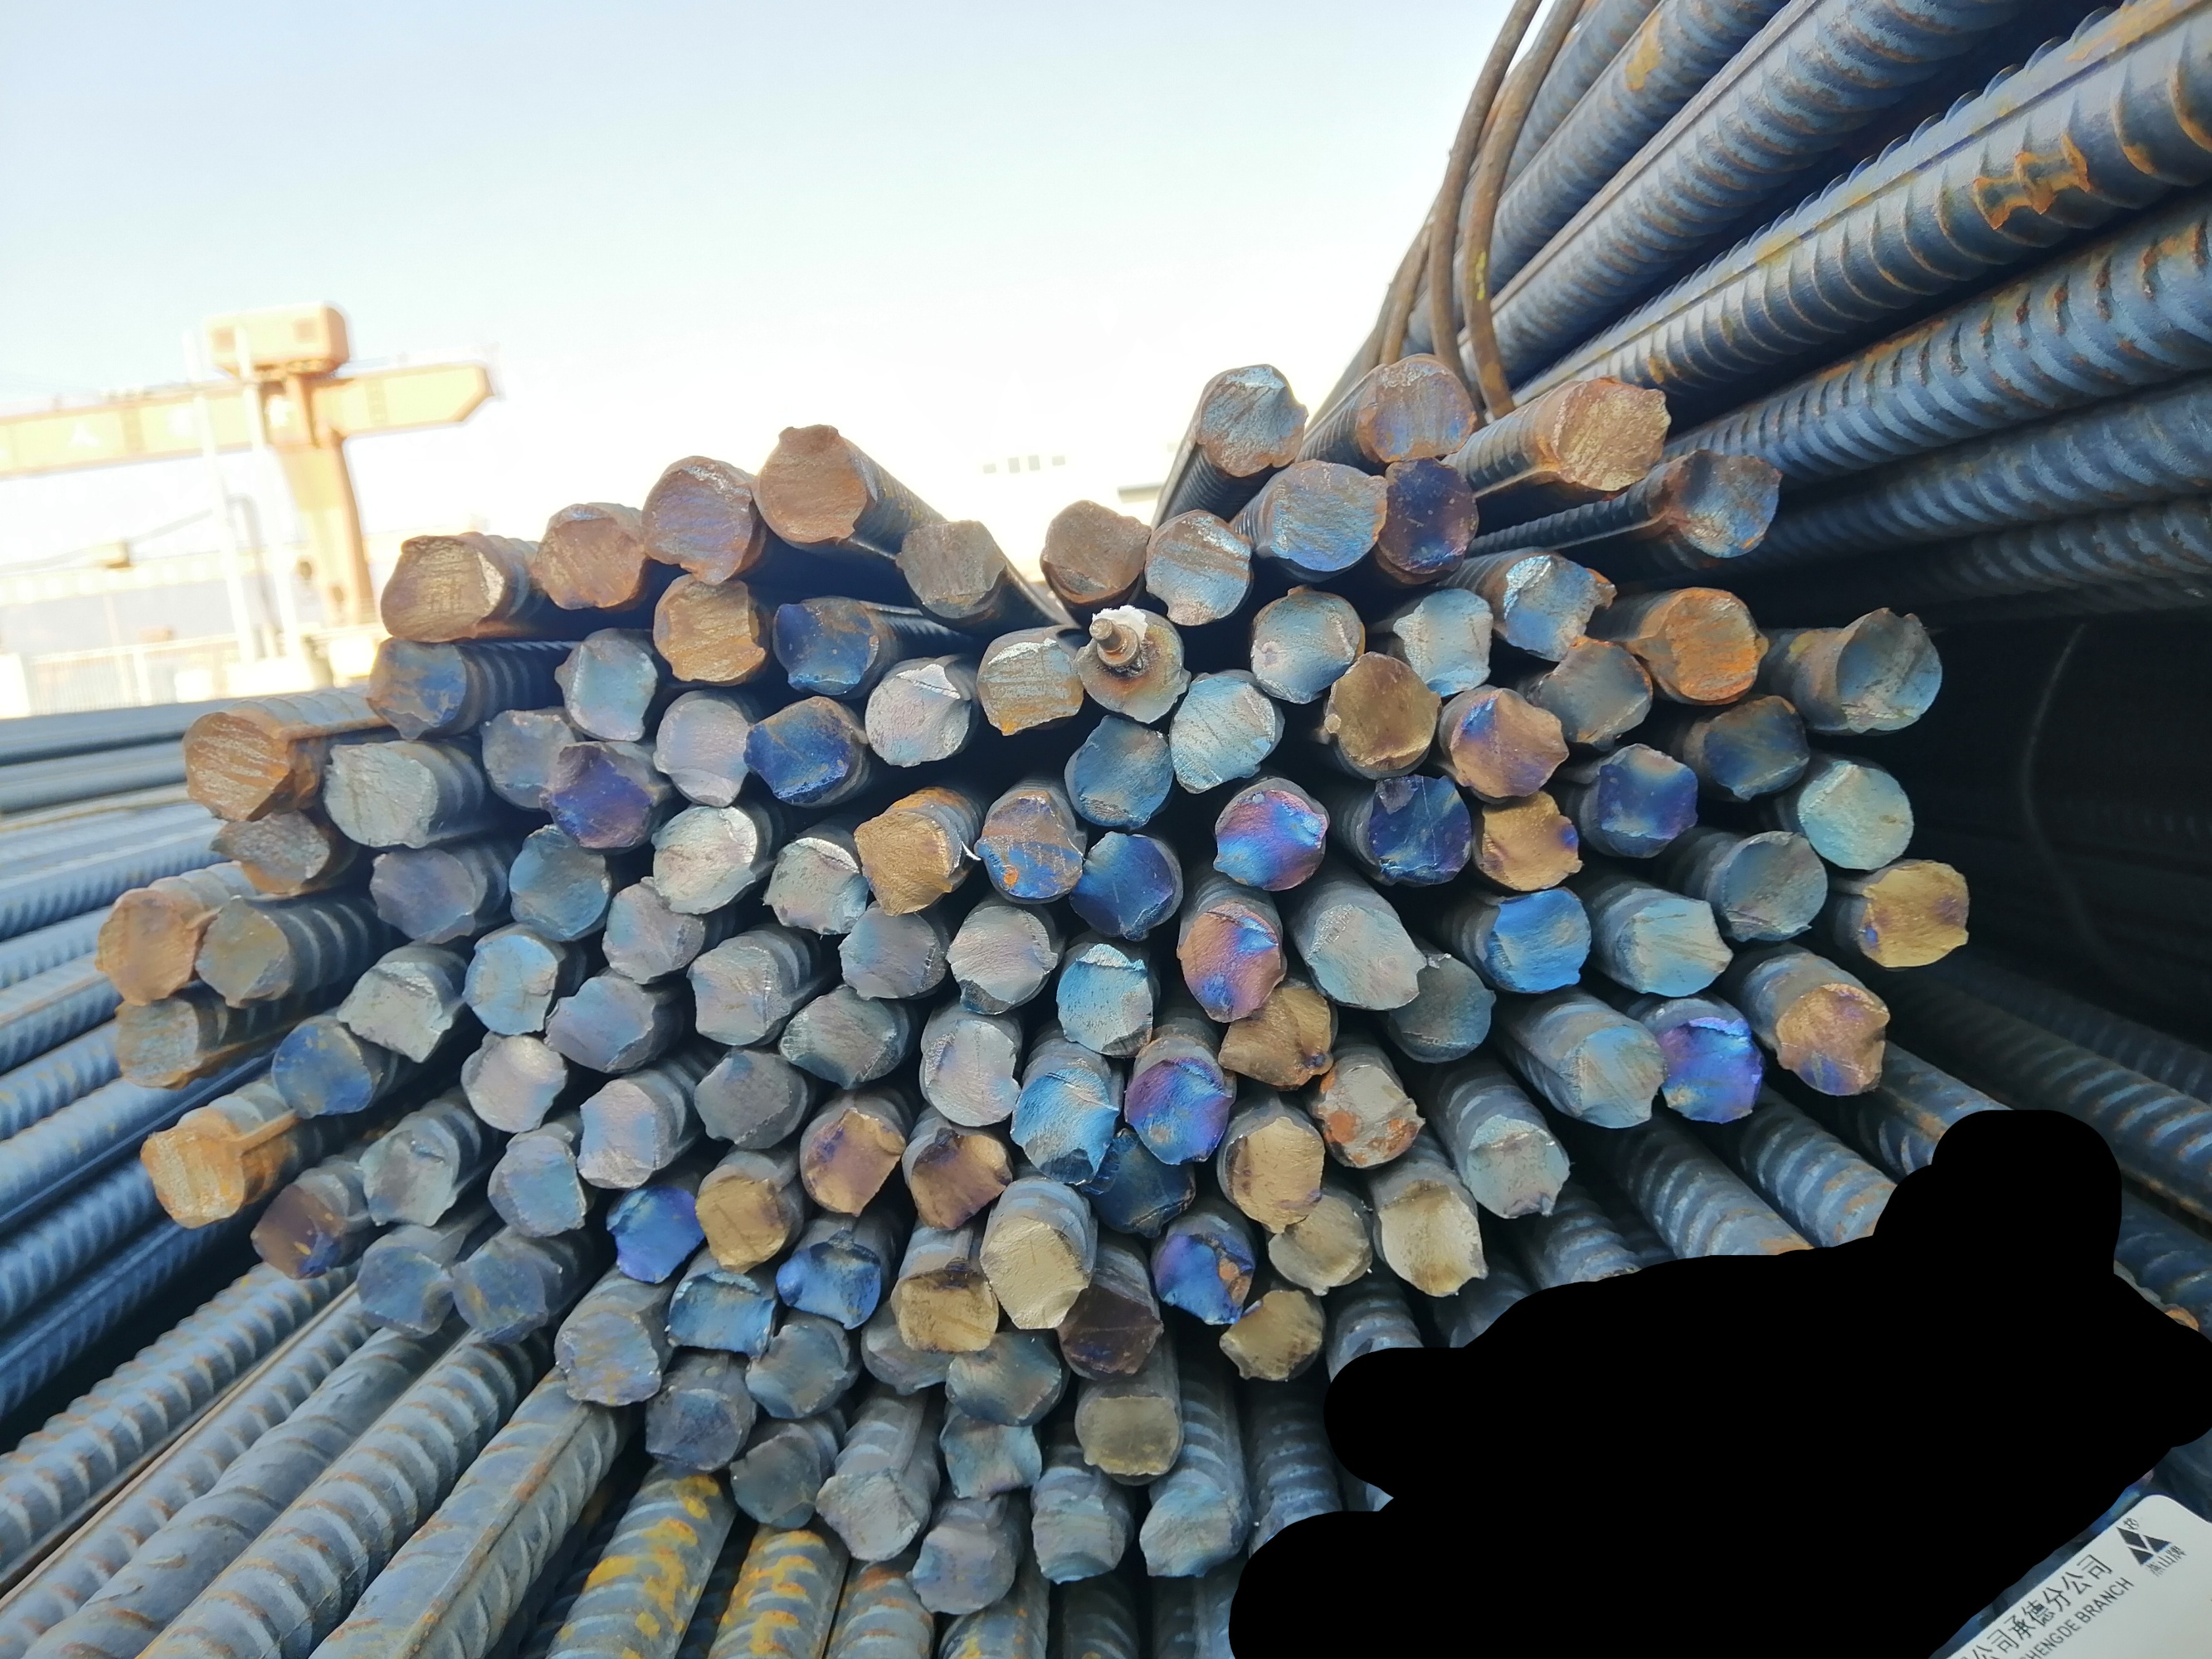rebar: (1626, 582, 1773, 708), (1257, 455, 1389, 586), (636, 453, 758, 589), (1163, 666, 1286, 796), (1323, 648, 1443, 781), (1372, 450, 1485, 589), (1529, 629, 1656, 753), (1447, 681, 1576, 803), (1123, 1030, 1239, 1164), (1830, 605, 1947, 739), (1072, 601, 1194, 728), (1769, 979, 1898, 1100), (1353, 769, 1476, 892), (1551, 371, 1673, 497), (1353, 347, 1482, 465), (1578, 741, 1701, 863), (378, 528, 507, 645), (1173, 897, 1290, 1026), (1213, 972, 1335, 1094), (1248, 584, 1368, 708), (753, 422, 870, 549), (1492, 551, 1623, 664), (776, 981, 908, 1093), (1191, 361, 1313, 481), (1210, 774, 1330, 894), (1372, 1182, 1492, 1302), (1006, 1063, 1123, 1187), (1386, 948, 1503, 1070), (743, 694, 866, 809), (1140, 507, 1255, 631), (1302, 901, 1429, 1012), (941, 901, 1060, 1019), (652, 570, 769, 690), (1060, 713, 1177, 833), (535, 737, 657, 852), (1795, 758, 1917, 873), (317, 741, 441, 854), (1473, 885, 1597, 999), (1713, 828, 1832, 945), (1665, 446, 1785, 561), (1851, 857, 1975, 969), (1069, 1370, 1185, 1486), (178, 709, 296, 824), (1067, 828, 1185, 943), (1307, 1061, 1429, 1173), (1220, 1112, 1330, 1236), (1086, 1126, 1199, 1244), (1656, 1012, 1769, 1131), (973, 791, 1093, 903), (530, 500, 647, 613), (795, 1105, 908, 1222), (87, 889, 199, 1007), (187, 894, 298, 1012), (551, 626, 662, 744), (333, 958, 455, 1066), (1614, 892, 1736, 1000), (941, 1326, 1069, 1429), (647, 803, 762, 917), (504, 824, 615, 941), (976, 1220, 1093, 1331), (1696, 692, 1813, 803), (1149, 1209, 1259, 1328), (1469, 788, 1588, 897), (1555, 1021, 1673, 1131), (689, 1044, 811, 1150), (899, 1124, 1016, 1234), (1037, 497, 1150, 608), (1389, 586, 1501, 699), (1461, 1108, 1572, 1222), (1265, 1185, 1375, 1300), (682, 941, 798, 1049), (539, 972, 661, 1075), (861, 662, 976, 770), (455, 1028, 572, 1134), (915, 1014, 1021, 1131), (741, 1317, 859, 1422), (1053, 939, 1157, 1058), (849, 809, 959, 920), (134, 1122, 248, 1230), (648, 695, 755, 810), (892, 516, 1008, 622), (1056, 1279, 1171, 1385), (598, 877, 708, 986), (769, 594, 884, 699), (758, 833, 873, 938), (267, 1014, 377, 1122), (835, 901, 950, 1004), (204, 805, 333, 896), (485, 1129, 589, 1241), (690, 1166, 795, 1277), (549, 1307, 664, 1408), (1137, 1483, 1252, 1584), (363, 636, 471, 742), (976, 634, 1086, 739), (364, 847, 479, 946), (901, 1521, 1020, 1617), (474, 706, 580, 812), (664, 1267, 779, 1364), (458, 931, 561, 1039), (1215, 1288, 1327, 1387), (812, 1466, 926, 1563), (770, 1236, 885, 1331), (446, 1243, 551, 1347), (357, 1124, 460, 1230), (936, 1406, 1046, 1506), (723, 1429, 828, 1532), (605, 1185, 708, 1288), (570, 1075, 659, 1194), (858, 1300, 962, 1399), (248, 1182, 349, 1281), (887, 1267, 1002, 1354), (354, 1243, 455, 1340), (1028, 1493, 1133, 1588), (640, 1385, 748, 1476), (106, 997, 202, 1091)
